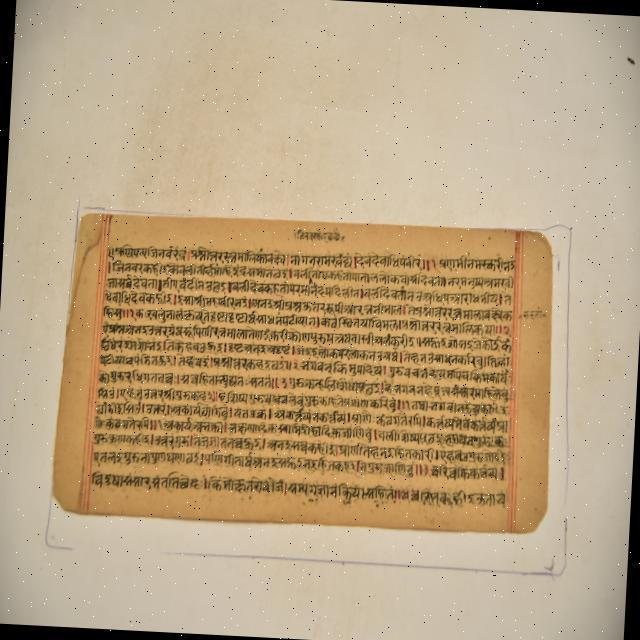text_paragraph: (54, 209, 552, 532)
